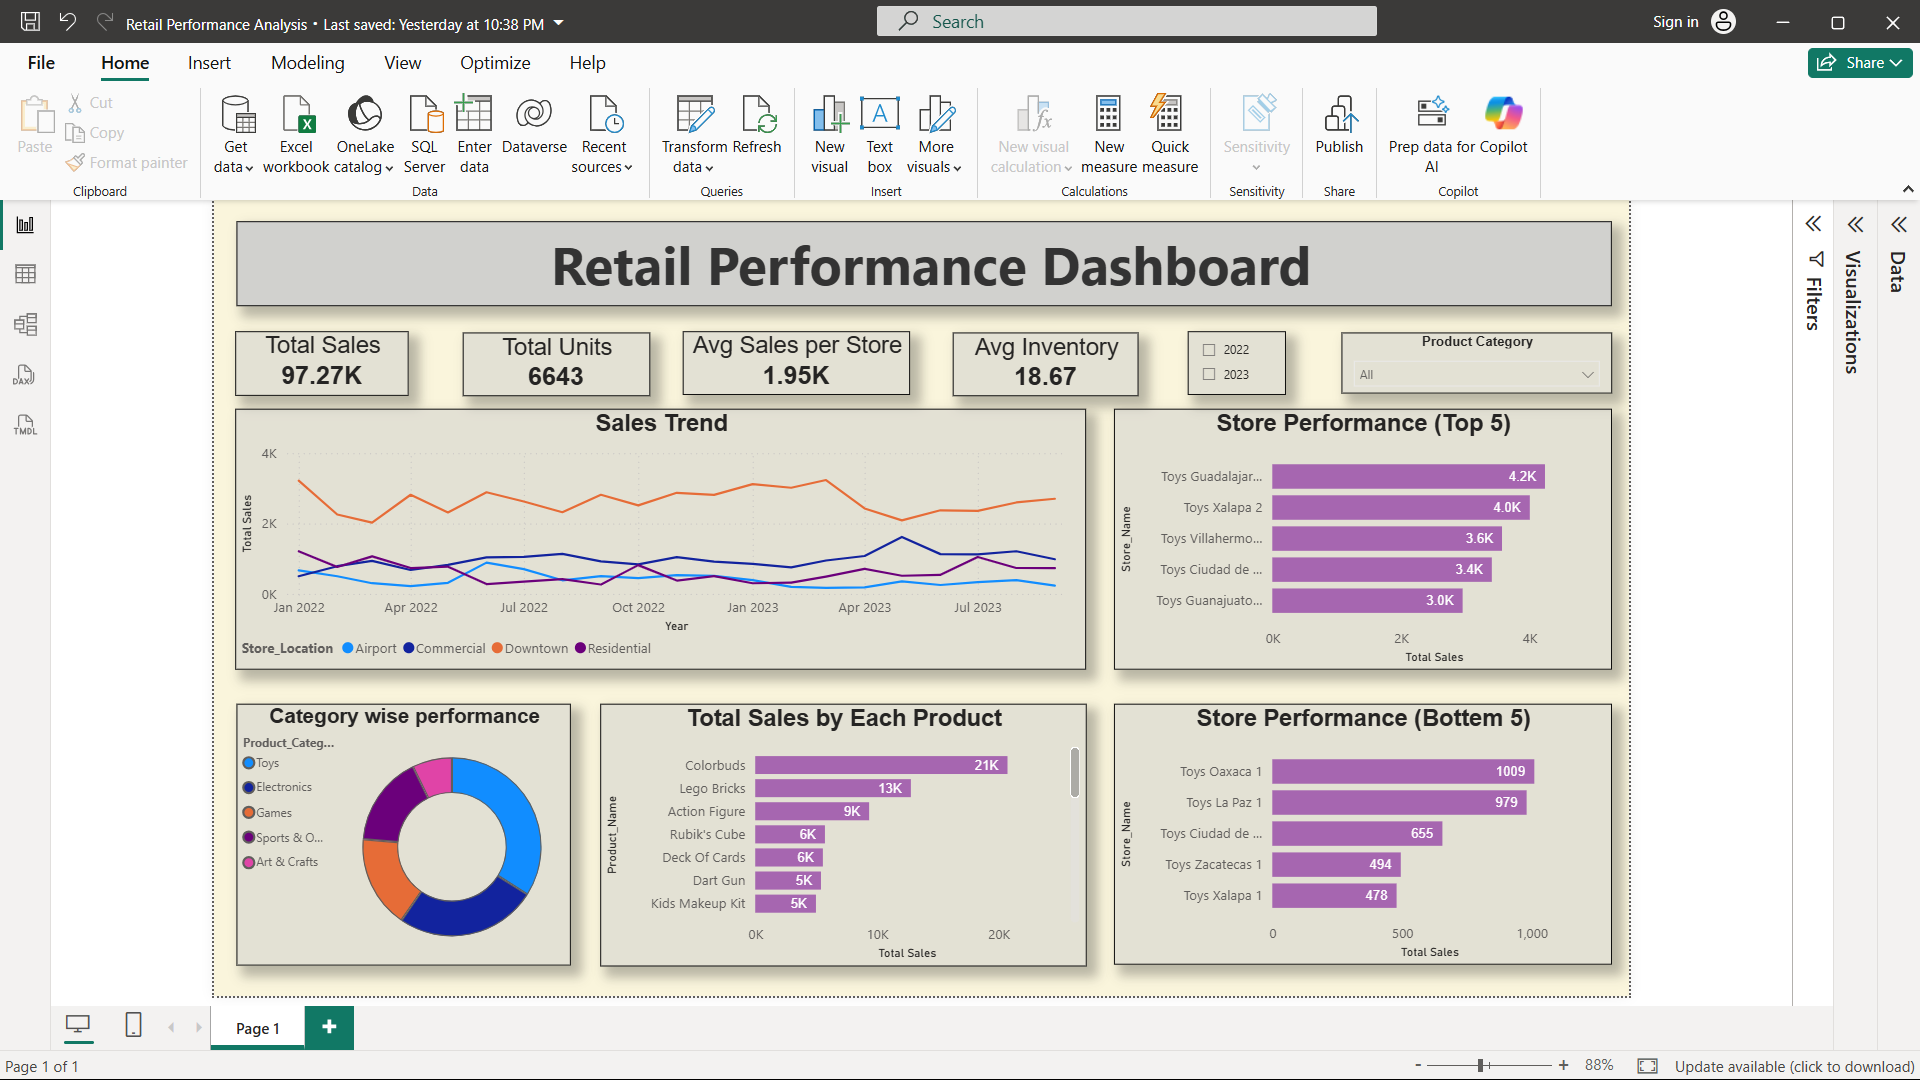

This screenshot's page, from the dashboard's own definition file:
{"tool":"powerbi","page":{"name":"Page 1","canvas":[1280,720],"ordinal":0},"visuals":[{"type":"textbox","box":[20.2,18.8,1244,76.7],"z":0},{"type":"card","title":"Avg Inventory","fields":{"Values":["Inventory.Avg Inventory"]},"box":[668.4,119.7,168.1,57.8],"z":1000},{"type":"card","title":"Total Units","fields":{"Values":["Sales.Total Units"]},"box":[224.6,119.7,169.4,57.8],"z":2000},{"type":"card","title":"Total Sales","fields":{"Values":["Sales.Total Sales"]},"box":[19.8,118.6,157,58.1],"z":3000},{"type":"card","title":"Avg Sales per Store","fields":{"Values":["Sales.Avg Sales per Store"]},"box":[423.6,118.3,205.8,57.8],"z":4000},{"type":"lineChart","title":"Sales Trend","fields":{"Y":["Sales.Total Sales"],"Category":["Sales.Date.Variation.Date Hierarchy.Year","Sales.Date.Variation.Date Hierarchy.Month"],"Series":["Stores.Store_Location"]},"box":[19.8,188.4,769.8,236],"z":5000},{"type":"barChart","title":"Store Performance (Top 5)","fields":{"Category":["Stores.Store_Name"],"Y":["Sales.Total Sales"]},"box":[814,188.4,450,236],"z":6000},{"type":"donutChart","title":"Category wise performance","fields":{"Category":["Products.Product_Category"],"Y":["Sales.Total Sales"]},"box":[20.2,455.9,302.6,236.7],"z":7000},{"type":"clusteredBarChart","title":"Total Sales by Each Product","fields":{"Category":["Products.Product_Name"],"Y":["Sales.Total Sales"]},"box":[349.4,455.7,439.8,237.4],"z":8000},{"type":"barChart","title":"Store Performance (Bottem 5)","fields":{"Category":["Stores.Store_Name"],"Y":["Sales.Total Sales"]},"box":[814,455.8,450,236],"z":9000},{"type":"slicer","fields":{"Values":["Sales.Date.Variation.Date Hierarchy.Year"]},"box":[880.9,118.3,88.8,57.8],"z":10000},{"type":"slicer","title":"Product Category","fields":{"Values":["Products.Product_Category"]},"box":[1019.4,119.7,244.8,55.1],"z":11000}]}

Visuals, with their boxes on the page's 1280x720 design canvas (x1, y1, x2, y2). These are canvas units, not pixel positions in the 1920x1080 screenshot, which may show the page scaled, cropped or inside an application window:
textbox: (left=20, top=19, right=1264, bottom=96)
"Avg Inventory" card: (left=668, top=120, right=836, bottom=178)
"Total Units" card: (left=225, top=120, right=394, bottom=178)
"Total Sales" card: (left=20, top=119, right=177, bottom=177)
"Avg Sales per Store" card: (left=424, top=118, right=629, bottom=176)
"Sales Trend" lineChart: (left=20, top=188, right=790, bottom=424)
"Store Performance (Top 5)" barChart: (left=814, top=188, right=1264, bottom=424)
"Category wise performance" donutChart: (left=20, top=456, right=323, bottom=693)
"Total Sales by Each Product" clusteredBarChart: (left=349, top=456, right=789, bottom=693)
"Store Performance (Bottem 5)" barChart: (left=814, top=456, right=1264, bottom=692)
slicer - Sales.Date.Variation.Date Hierarchy.Year: (left=881, top=118, right=970, bottom=176)
"Product Category" slicer: (left=1019, top=120, right=1264, bottom=175)
